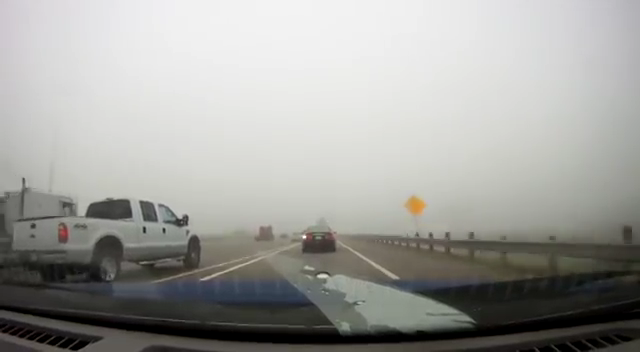bus: (259, 225, 275, 241)
car: (11, 196, 202, 283), (301, 225, 338, 252)
